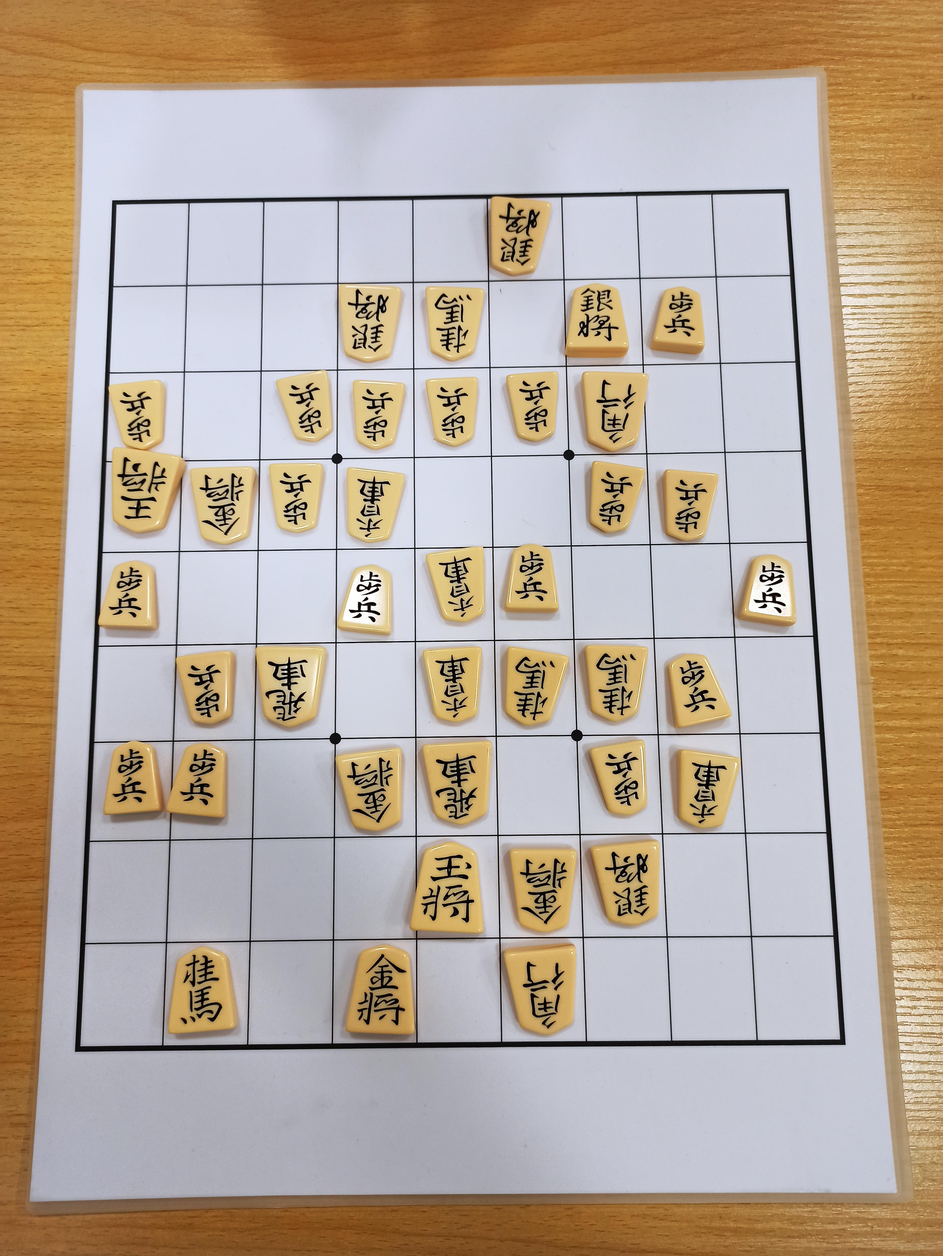board: (77, 190, 843, 1048)
